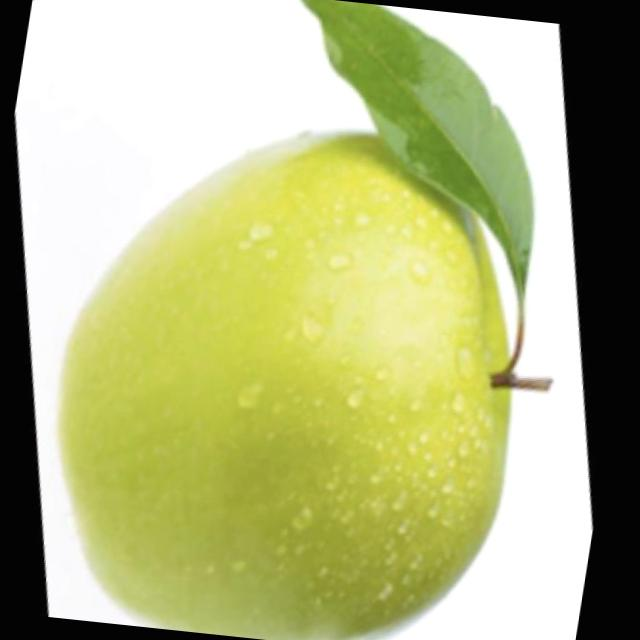Apple: (28, 103, 590, 640)
